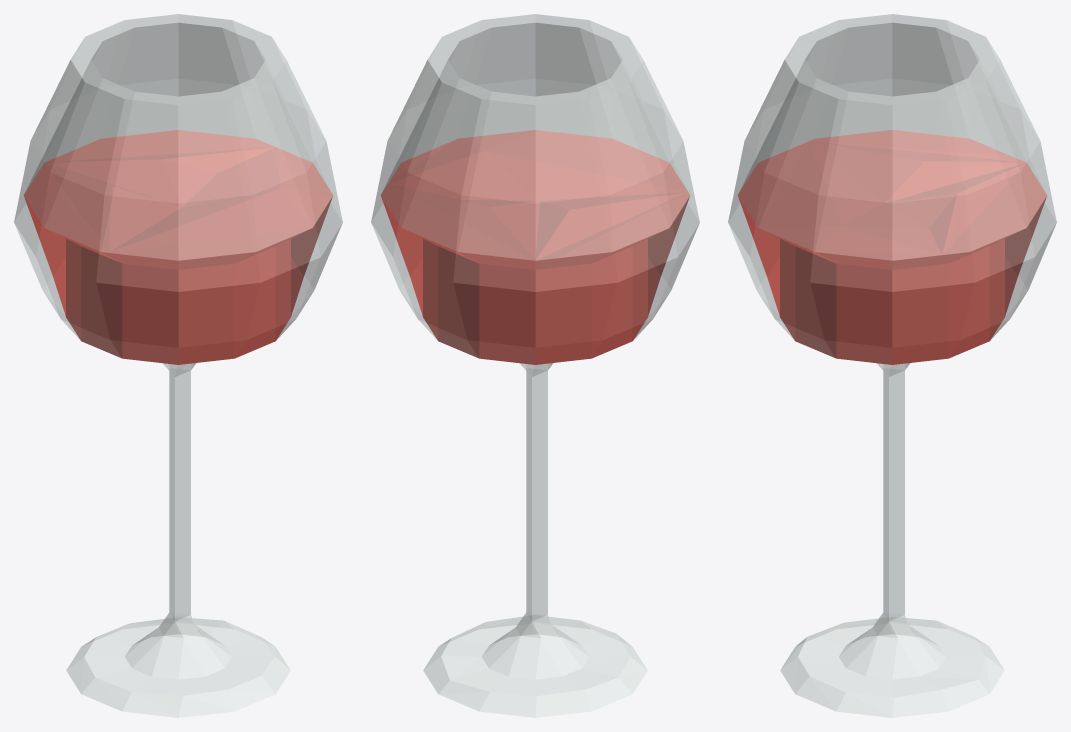
The model's file is glass.glb.
3 views of the same model, side by side, from view 1: azimuth 30°, elevation 25°; view 2: azimuth 150°, elevation 25°; view 3: azimuth 270°, elevation 25° (orthographic).
Visible parts, largest first — view 1: Node; view 2: Node; view 3: Node.
Boxes of the visible parts, left/top/right/bottom form: Node: left=14, top=14, right=342, bottom=717; Node: left=371, top=14, right=699, bottom=717; Node: left=728, top=14, right=1056, bottom=717.
Size of the model in its own units: 0.2196 by 0.45 by 0.2196.
